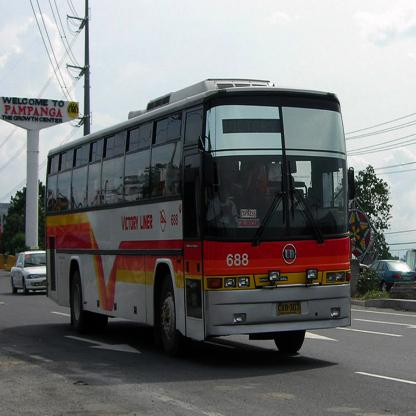Bus: (43, 76, 353, 358)
